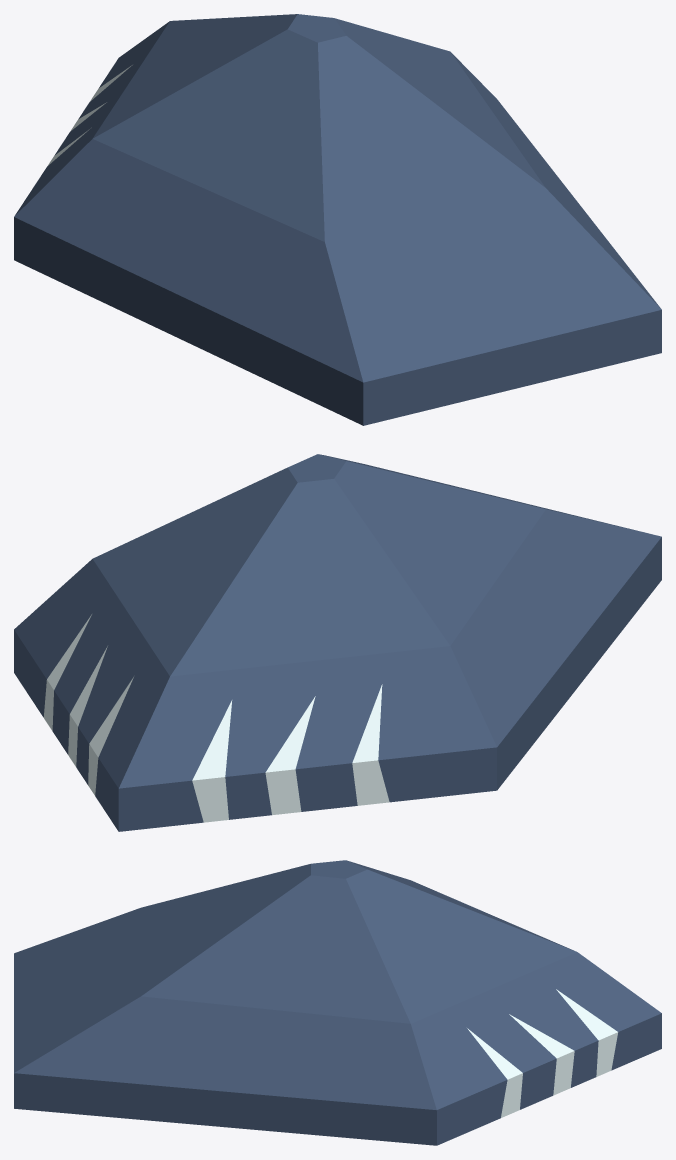
Rendered from stand.fbx.
3 views of the same model, one above another, from view 1: azimuth 30°, elevation 25°; view 2: azimuth 150°, elevation 25°; view 3: azimuth 270°, elevation 25° (orthographic). The views are drawn at different scales.
Parts seen in each view (by area): view 1: Cylinder; view 2: Cylinder; view 3: Cylinder.
Boxes of the visible parts, x1,y1,x2,y2 form: Cylinder: [14, 14, 661, 425]; Cylinder: [14, 454, 661, 831]; Cylinder: [14, 860, 661, 1145].
Size of the model in its own units: 190 by 82.06 by 269.
